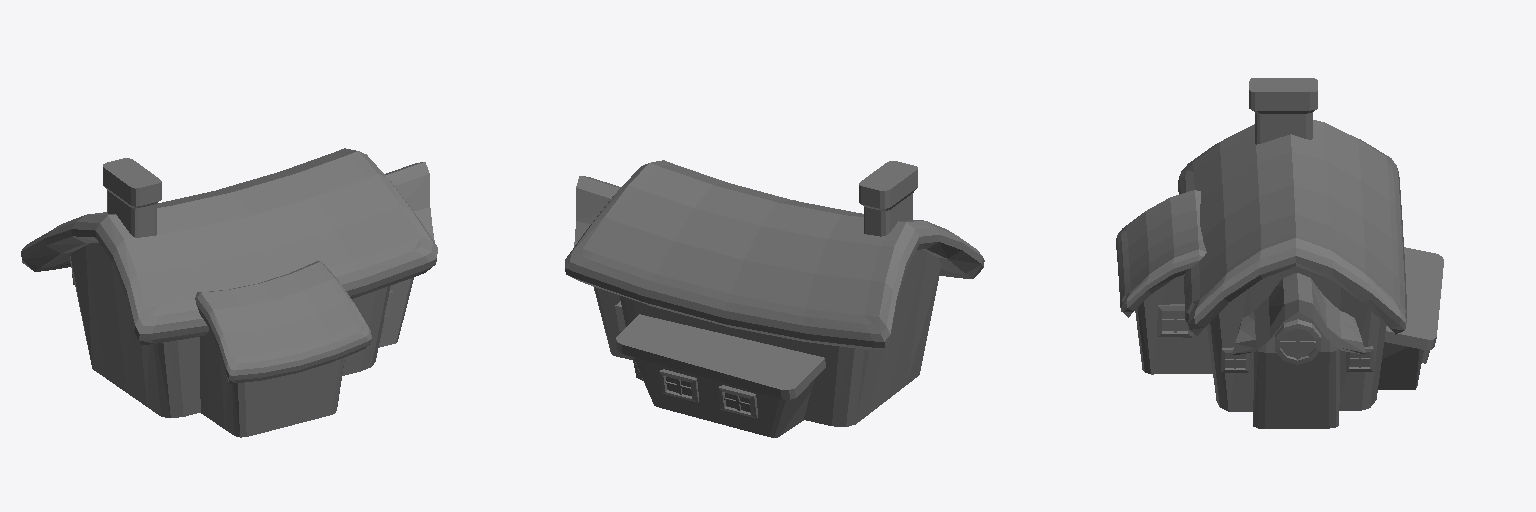
File: Moon_Island_Meduim_House.obj
3 renders of one model, left to right at view 1: azimuth 30°, elevation 25°; view 2: azimuth 150°, elevation 25°; view 3: azimuth 270°, elevation 25°, orthographic.
Parts seen in each view (by area): view 1: Medium_house_geo_Medium_house_geo; view 2: Medium_house_geo_Medium_house_geo, pCube9_pCube9, pCube8_pCube8; view 3: Medium_house_geo_Medium_house_geo, pCylinder2_pCylinder2, pCube5_pCube5, pCube6_pCube6, pCube7_pCube7.
Boxes of the visible parts, x1,y1,x2,y2 form: Medium_house_geo_Medium_house_geo: [21, 148, 437, 437]; Medium_house_geo_Medium_house_geo: [565, 160, 984, 437]; pCube9_pCube9: [718, 385, 757, 418]; pCube8_pCube8: [659, 369, 698, 402]; Medium_house_geo_Medium_house_geo: [1116, 78, 1443, 428]; pCylinder2_pCylinder2: [1275, 319, 1320, 364]; pCube5_pCube5: [1157, 304, 1192, 337]; pCube6_pCube6: [1221, 347, 1249, 372]; pCube7_pCube7: [1346, 346, 1373, 371].
Size of the model in its own units: 22.1 by 13.13 by 17.57.